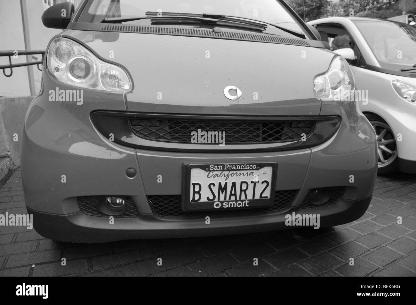license plate: (179, 161, 279, 214)
